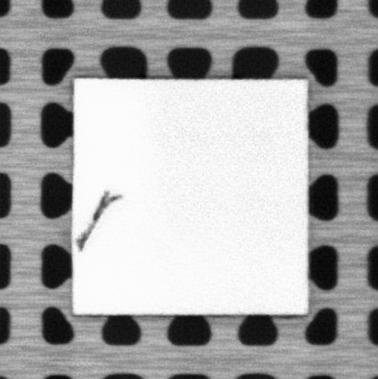DIE_INK: (77, 190, 123, 253)
